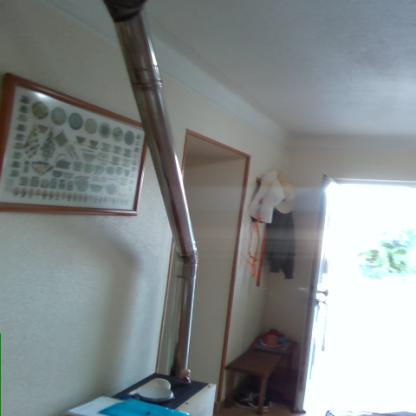open: (307, 160, 415, 416)
